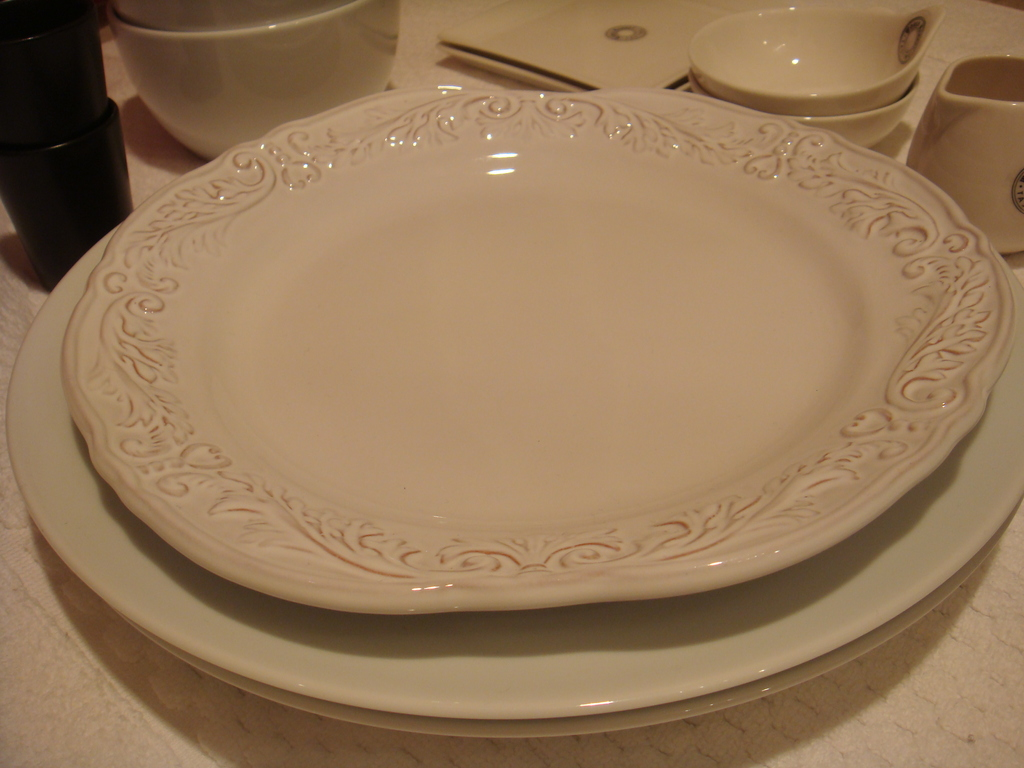plate: (62, 82, 1016, 618)
